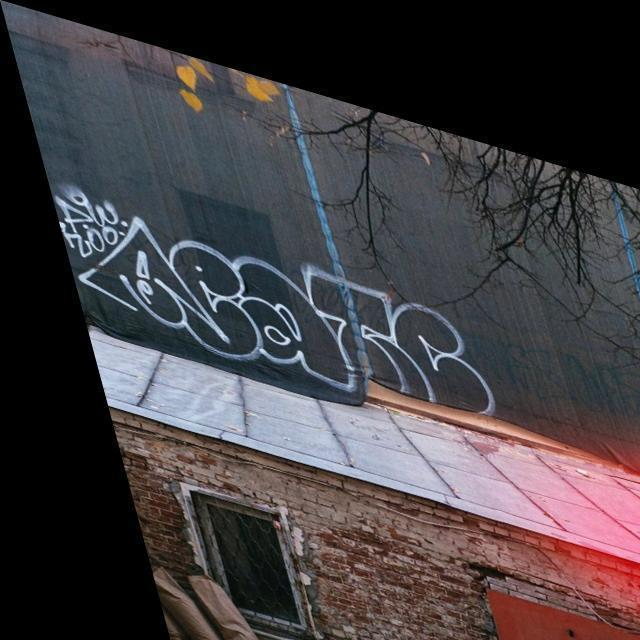nonspitting: (56, 186, 494, 416)
